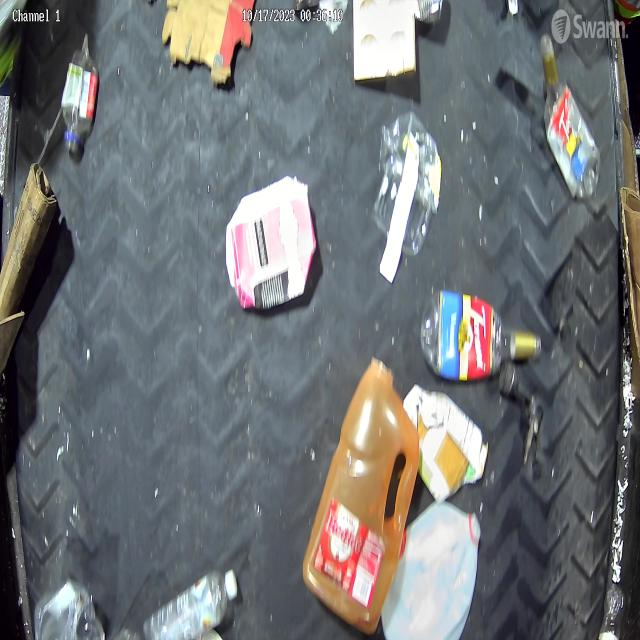can: (408, 1, 448, 30)
milk_jug: (384, 501, 484, 639)
non_white_jug: (302, 358, 418, 635), (223, 176, 317, 314)
plastic_bottle: (420, 288, 537, 380), (541, 58, 599, 202), (144, 563, 240, 640)
